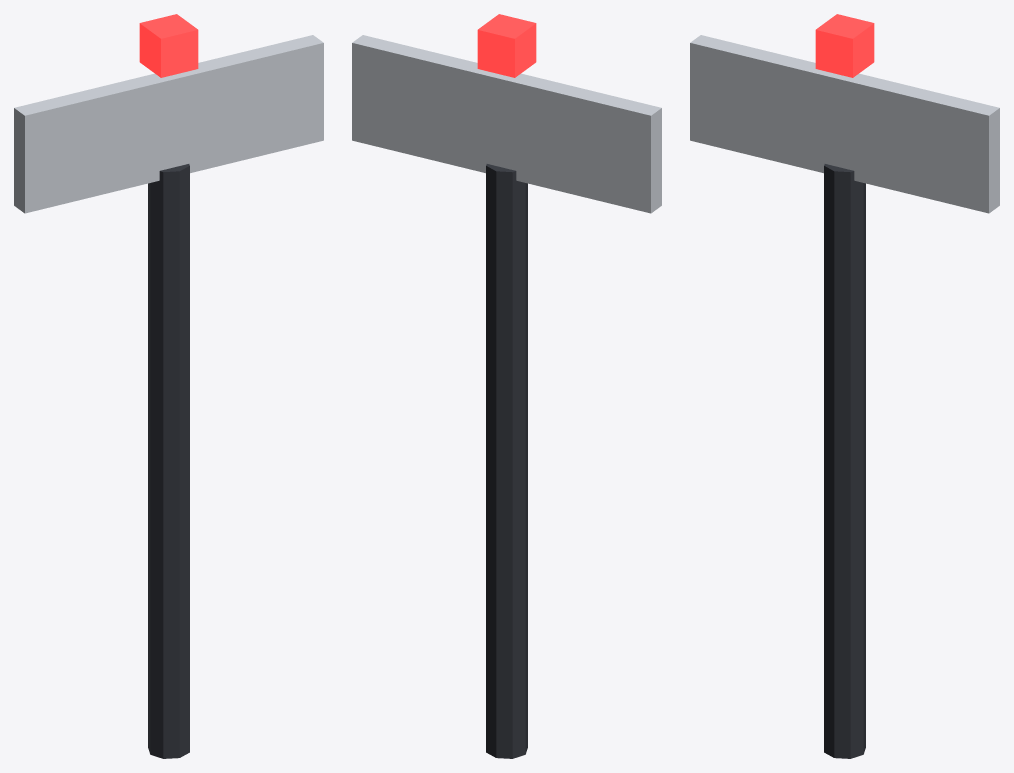
File: colony-radar-mast.glb
3 views of the same model, side by side, from view 1: azimuth 30°, elevation 25°; view 2: azimuth 150°, elevation 25°; view 3: azimuth 330°, elevation 25° (orthographic).
Visible parts, largest first — view 1: radar_mast; view 2: radar_mast; view 3: radar_mast.
Boxes of the visible parts, x1,y1,x2,y2 form: radar_mast: (14,14,323,758); radar_mast: (352,14,661,758); radar_mast: (690,14,999,758).
Size of the model in its own units: 1.6 by 3.7 by 0.2.
